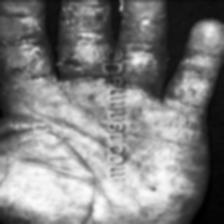Non-Cancerous Skin Condition: (64, 0, 106, 32), (61, 40, 98, 70)
